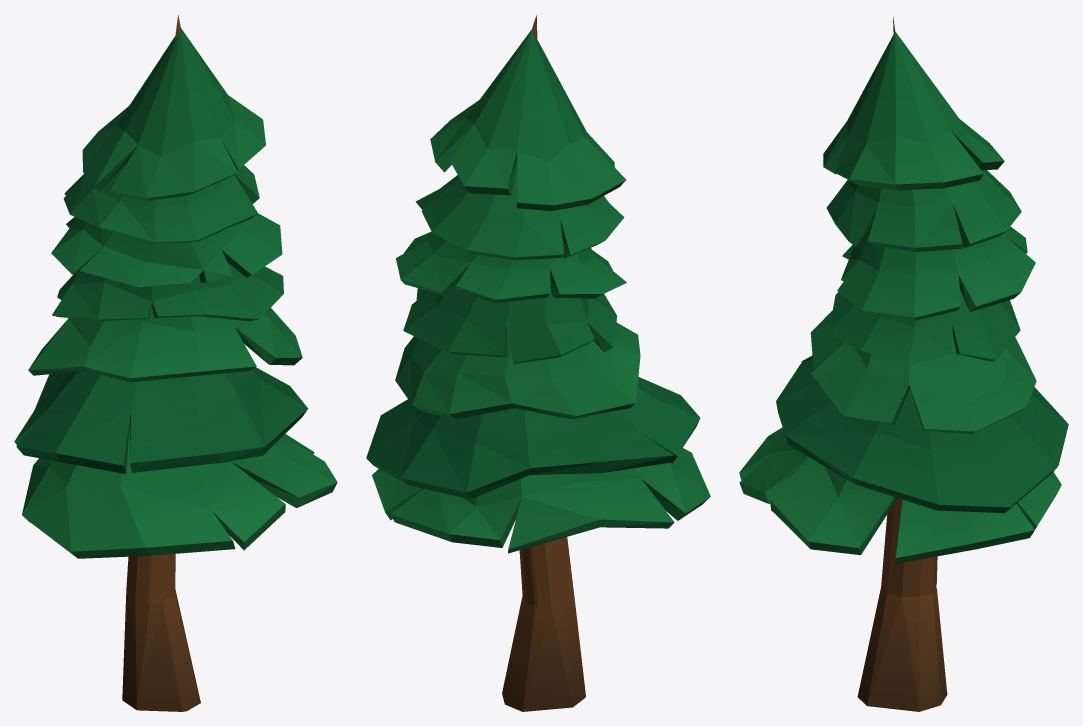
Rendered from tree_fir.glb.
3 views of the same model, side by side, from view 1: azimuth 30°, elevation 25°; view 2: azimuth 150°, elevation 25°; view 3: azimuth 270°, elevation 25° (orthographic).
Parts seen in each view (by area): view 1: Conifer Tree_2_AA; view 2: Conifer Tree_2_AA; view 3: Conifer Tree_2_AA.
Part boxes in pixels (x1,y1,x2,y2): Conifer Tree_2_AA: [14, 15, 337, 711]; Conifer Tree_2_AA: [366, 15, 710, 711]; Conifer Tree_2_AA: [739, 16, 1068, 711].
Bounding box in the file's own units: 1.75 × 3.92 × 1.7.
1 material, 1 textured.
